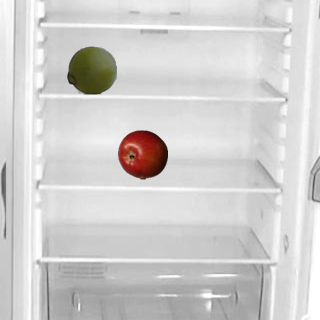Apple Braeburn: (117, 129, 167, 179)
Grape White 4: (66, 44, 116, 94)
